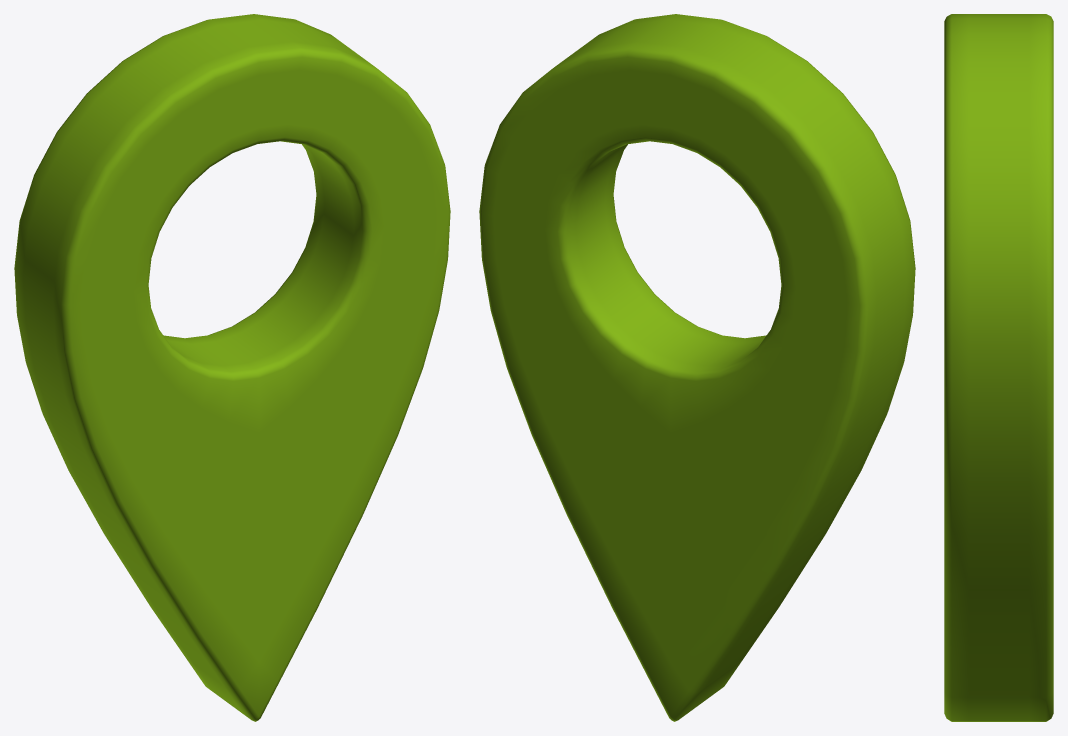
File: map_pin_compacted.glb
3 views of the same model, side by side, from view 1: azimuth 30°, elevation 25°; view 2: azimuth 150°, elevation 25°; view 3: azimuth 270°, elevation 25° (orthographic). The views are drawn at different scales.
Parts seen in each view (by area): view 1: pointer; view 2: pointer; view 3: pointer.
Boxes of the visible parts, left/top/right/bottom form: pointer: left=14, top=14, right=450, bottom=721; pointer: left=479, top=14, right=915, bottom=721; pointer: left=944, top=14, right=1053, bottom=721.
Size of the model in its own units: 6.08 by 10 by 1.44.
1 material, 1 textured.
